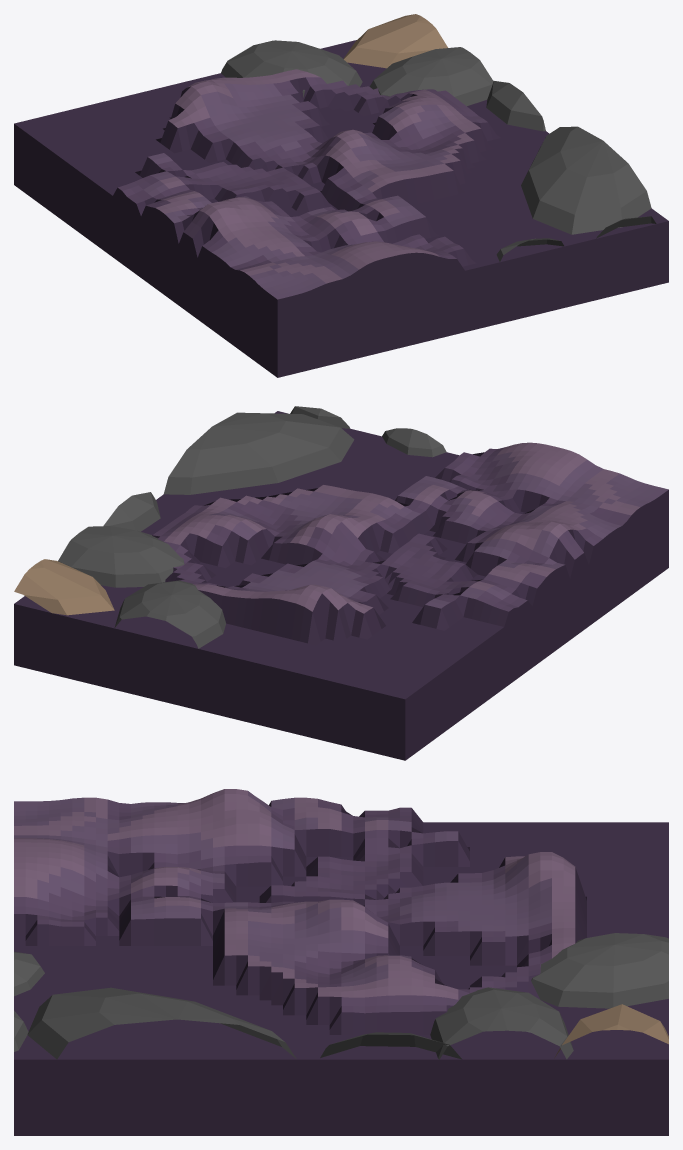
3 views of the same model, one above another, from view 1: azimuth 30°, elevation 25°; view 2: azimuth 150°, elevation 25°; view 3: azimuth 270°, elevation 25° (orthographic). The views are drawn at different scales.
Visible parts, largest first — view 1: shapesz-t157; view 2: shapesz-t157; view 3: shapesz-t157.
Part boxes in pixels (<box>): shapesz-t157: <box>14,14,668,377</box>; shapesz-t157: <box>14,406,668,760</box>; shapesz-t157: <box>14,789,668,1135</box>.
Size of the model in its own units: 2 by 0.5 by 2.33.
